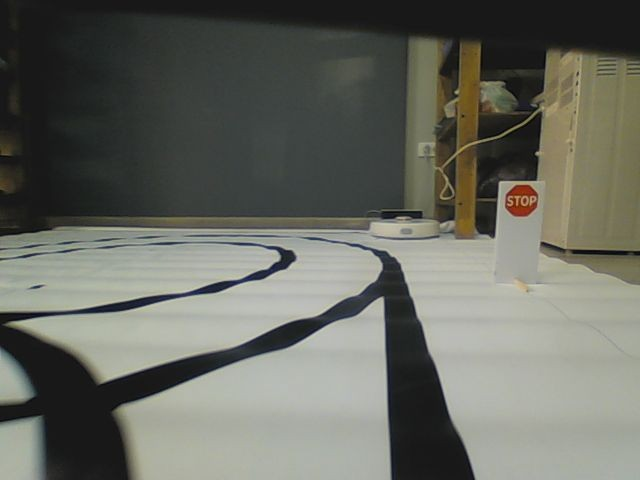Stop: (505, 184, 539, 217)
